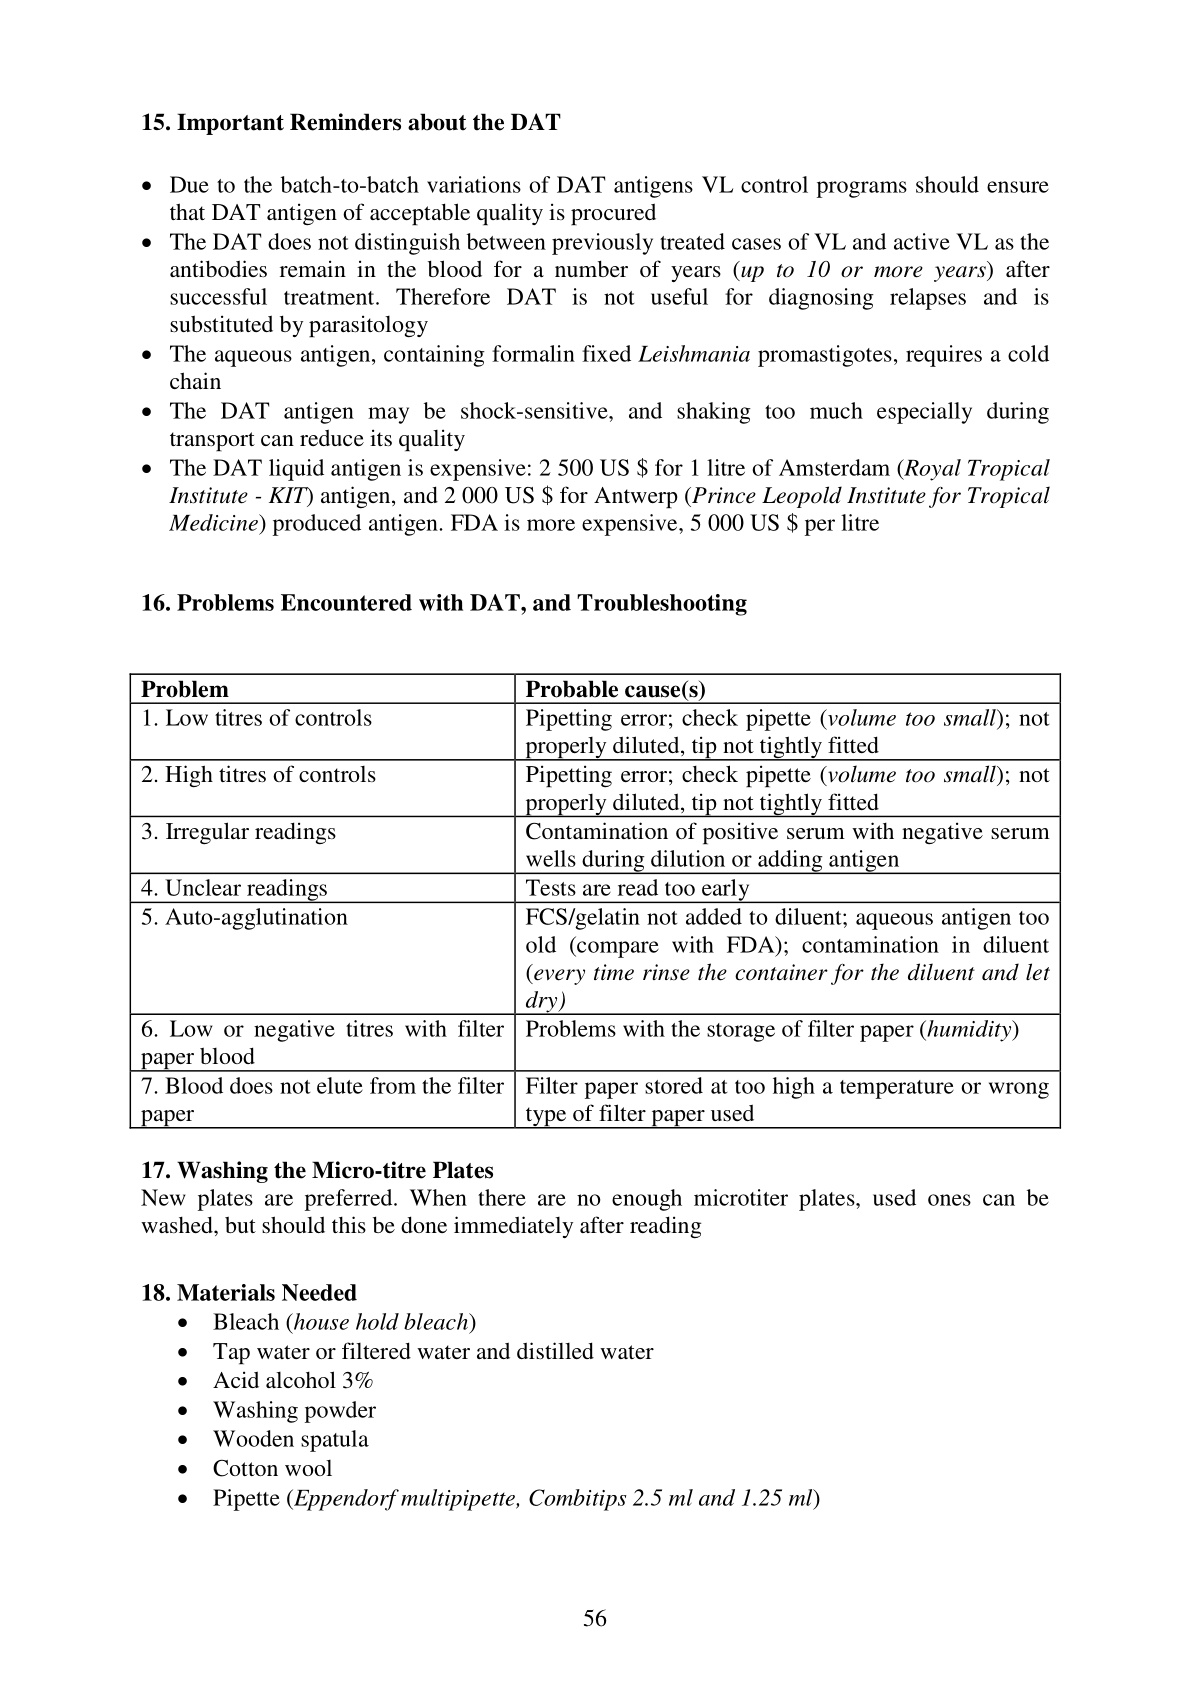full_lined: (129, 673, 1062, 1130)
